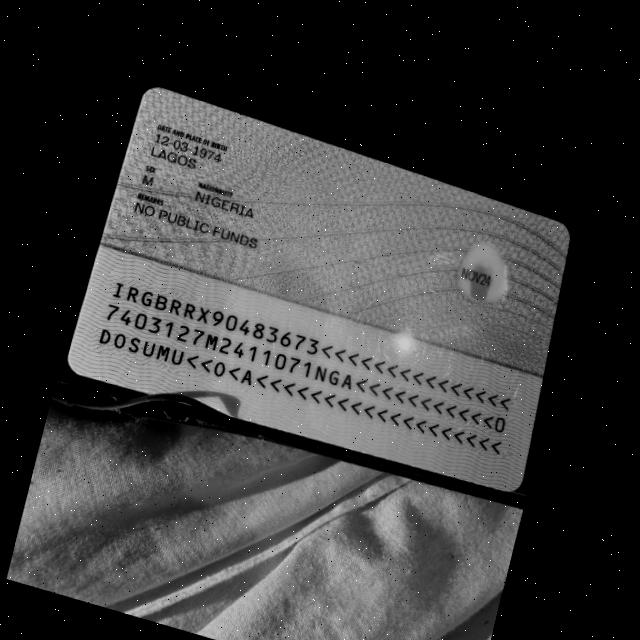card: (69, 88, 569, 491)
